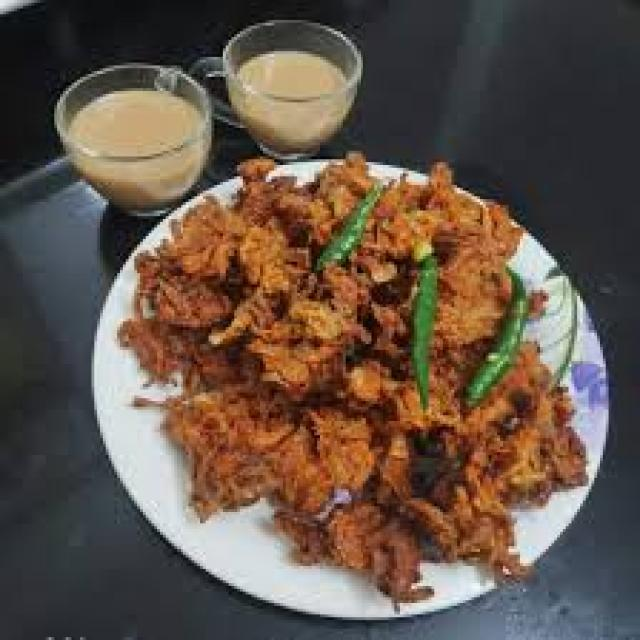BAJI: (114, 158, 591, 594)
